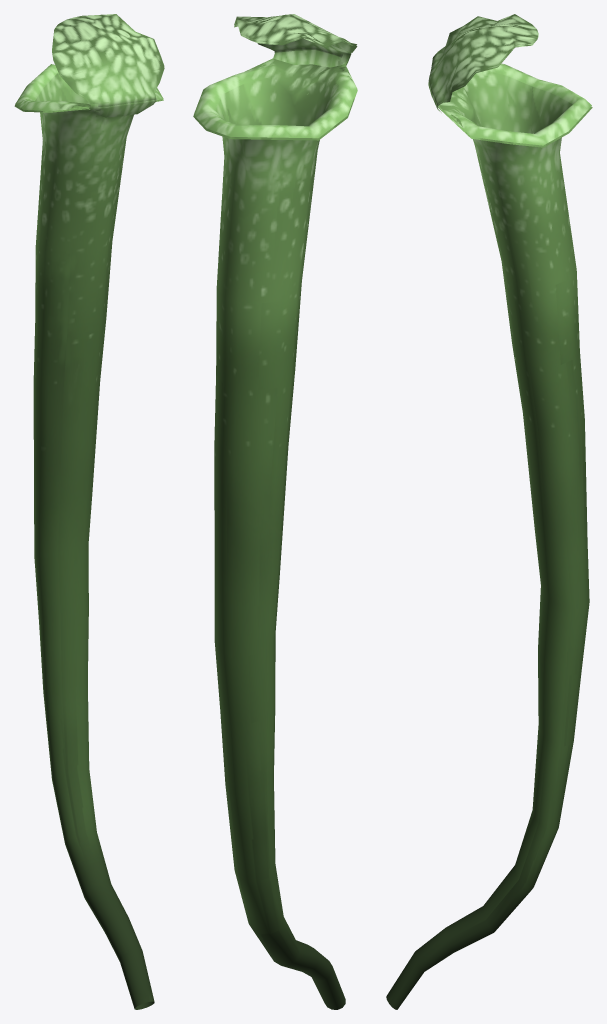
Rendered from Trumpet2.fbx.
The picture shows the model from 3 angles, left to right: view 1: azimuth 30°, elevation 25°; view 2: azimuth 150°, elevation 25°; view 3: azimuth 270°, elevation 25°; orthographic projection. The views are drawn at different scales.
Visible parts, largest first — view 1: TrumpetPlant2; view 2: TrumpetPlant2; view 3: TrumpetPlant2.
Boxes of the visible parts, <box> form: TrumpetPlant2: <box>14,14,164,1009</box>; TrumpetPlant2: <box>193,14,357,1009</box>; TrumpetPlant2: <box>386,14,592,1009</box>.
Size of the model in its own units: 11.47 by 78.23 by 14.92.
